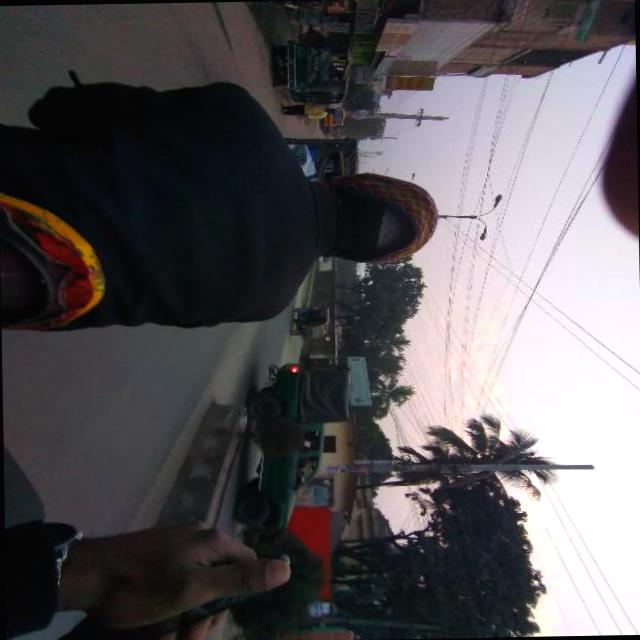motorcycle: (274, 42, 352, 102), (284, 132, 362, 180), (289, 304, 334, 339)
truck: (229, 358, 358, 536), (322, 106, 344, 125)
